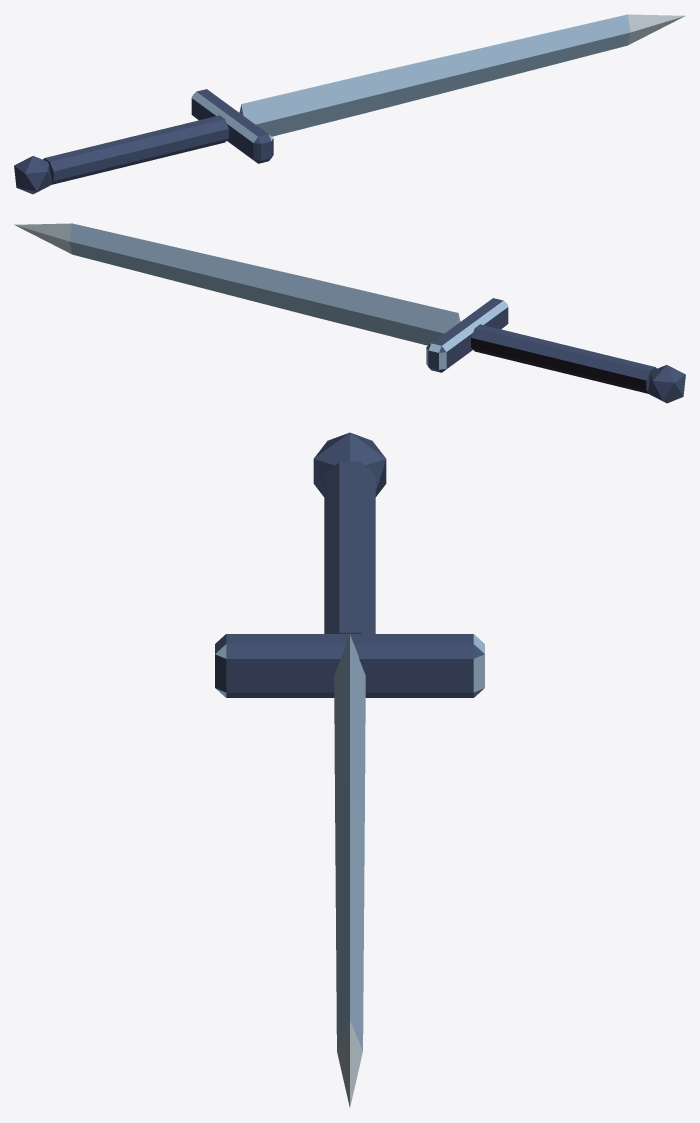
File: sword_basic.glb
The picture shows the model from 3 angles, top to bottom: view 1: azimuth 30°, elevation 25°; view 2: azimuth 150°, elevation 25°; view 3: azimuth 270°, elevation 25°; orthographic projection. The views are drawn at different scales.
Visible parts, largest first — view 1: sword_basic; view 2: sword_basic; view 3: sword_basic.
Boxes of the visible parts, bbox=[...] form: sword_basic: bbox=[14, 14, 685, 194]; sword_basic: bbox=[14, 223, 685, 403]; sword_basic: bbox=[215, 432, 484, 1107].
Size of the model in its own units: 1.66 by 0.096 by 0.29.
